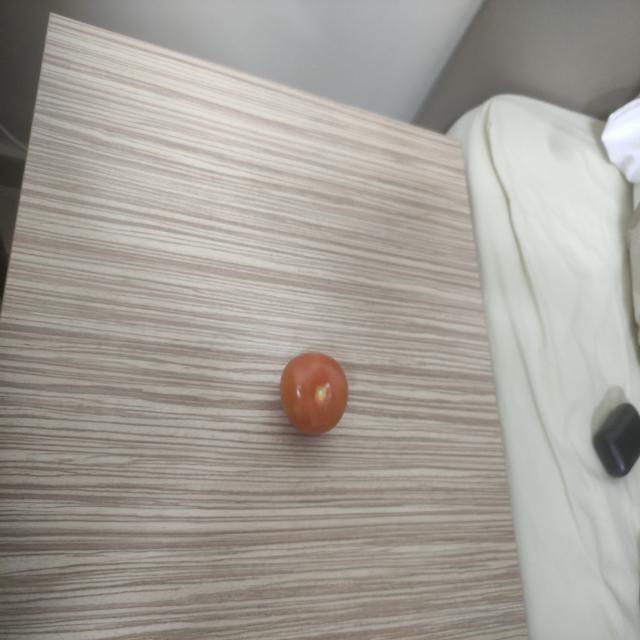sari: (274, 338, 359, 453)
